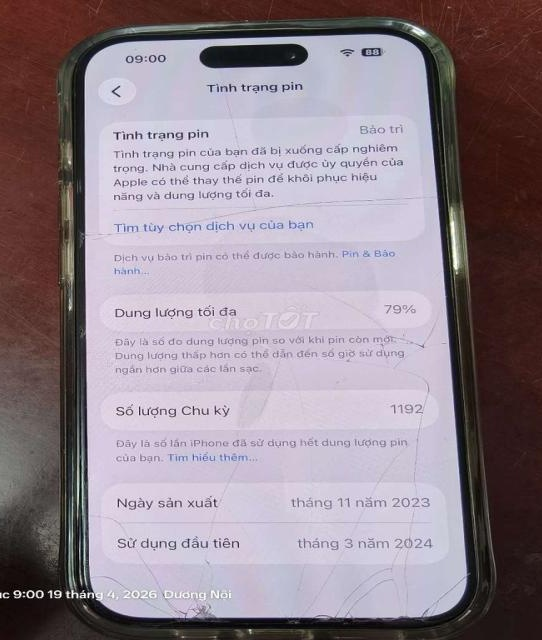screen_defect: (323, 377, 462, 615), (115, 535, 243, 627), (315, 286, 441, 370), (198, 68, 257, 217), (77, 211, 229, 246), (262, 194, 462, 217), (241, 342, 283, 447)
